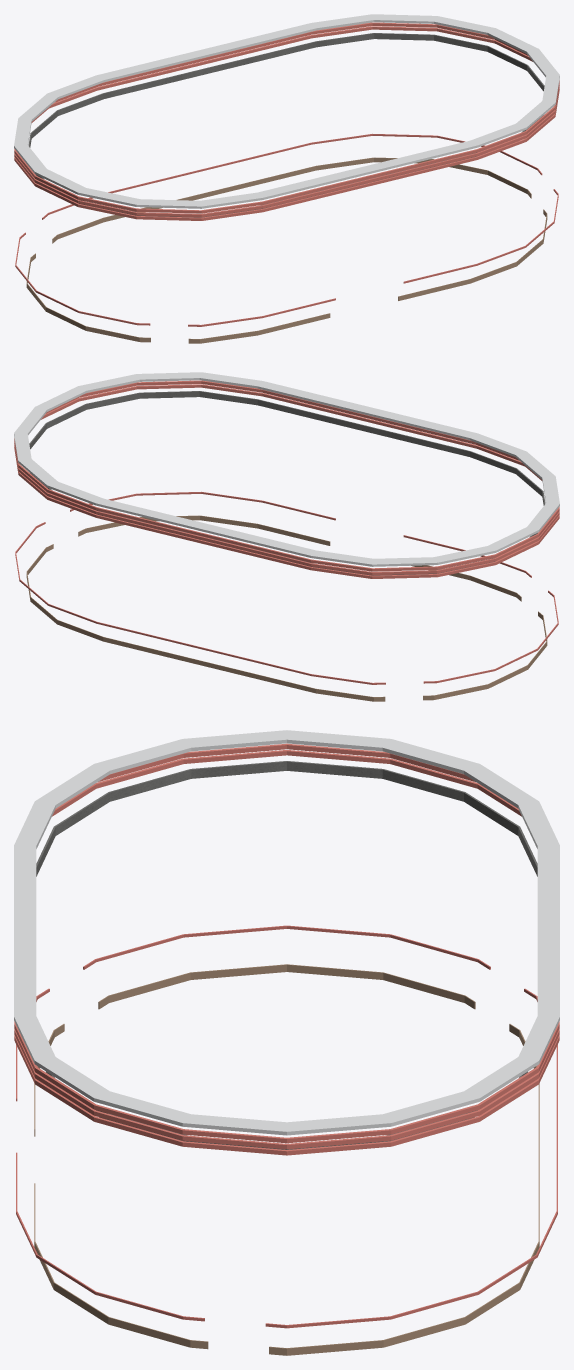
File: trims.glb
3 renders of one model, top to bottom at view 1: azimuth 30°, elevation 25°; view 2: azimuth 150°, elevation 25°; view 3: azimuth 270°, elevation 25°, orthographic. The views are drawn at different scales.
Visible parts, largest first — view 1: trims_coping, trims_trim_r, trims_trim, trims_membrane, trims_tile_r; view 2: trims_coping, trims_trim_r, trims_trim, trims_membrane, trims_tile_r; view 3: trims_coping, trims_trim_r, trims_trim, trims_membrane, trims_tile_r.
Part boxes in pixels (box(x1,y1,x2,y2)): trims_coping: box(14, 14, 559, 208); trims_trim_r: box(14, 22, 559, 220); trims_trim: box(26, 157, 547, 343); trims_membrane: box(28, 33, 544, 217); trims_tile_r: box(15, 133, 558, 326); trims_coping: box(14, 372, 559, 566); trims_trim_r: box(14, 380, 559, 578); trims_trim: box(26, 515, 547, 701); trims_membrane: box(29, 391, 545, 575); trims_tile_r: box(15, 491, 558, 684); trims_coping: box(14, 730, 559, 1135); trims_trim_r: box(14, 743, 559, 1155); trims_trim: box(34, 964, 539, 1355); trims_membrane: box(36, 761, 537, 1149); trims_tile_r: box(16, 925, 557, 1328).
Size of the model in its own units: 14.1 by 3.81 by 8.1.
Materials: 5 (1 with a texture image).
